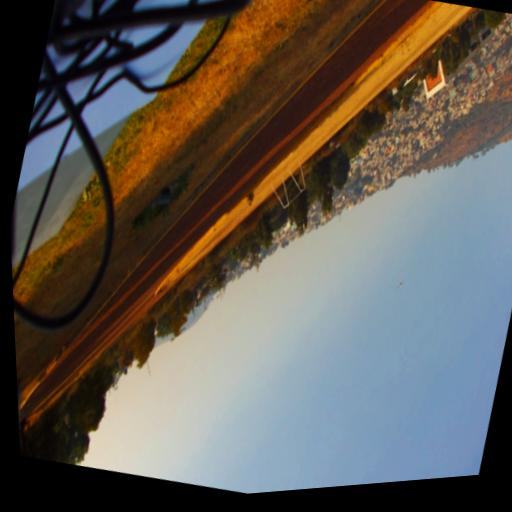drones: (396, 277, 406, 292)
